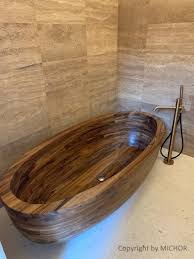bathub: (1, 107, 169, 253)
